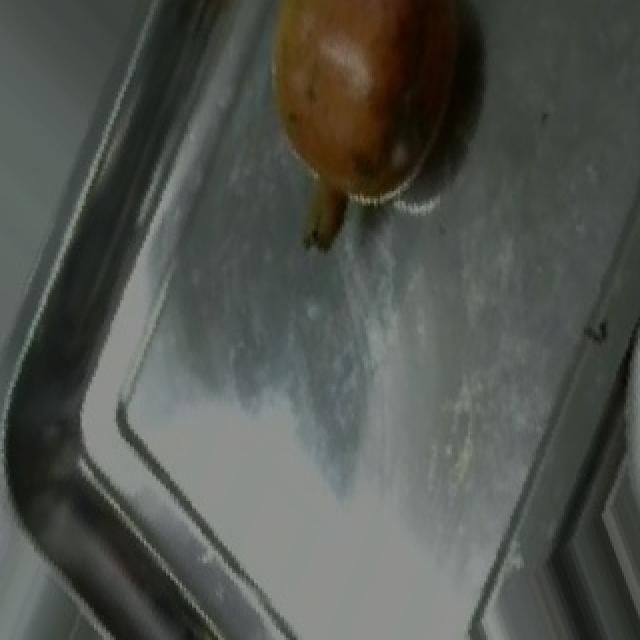fruit: (232, 0, 494, 248)
